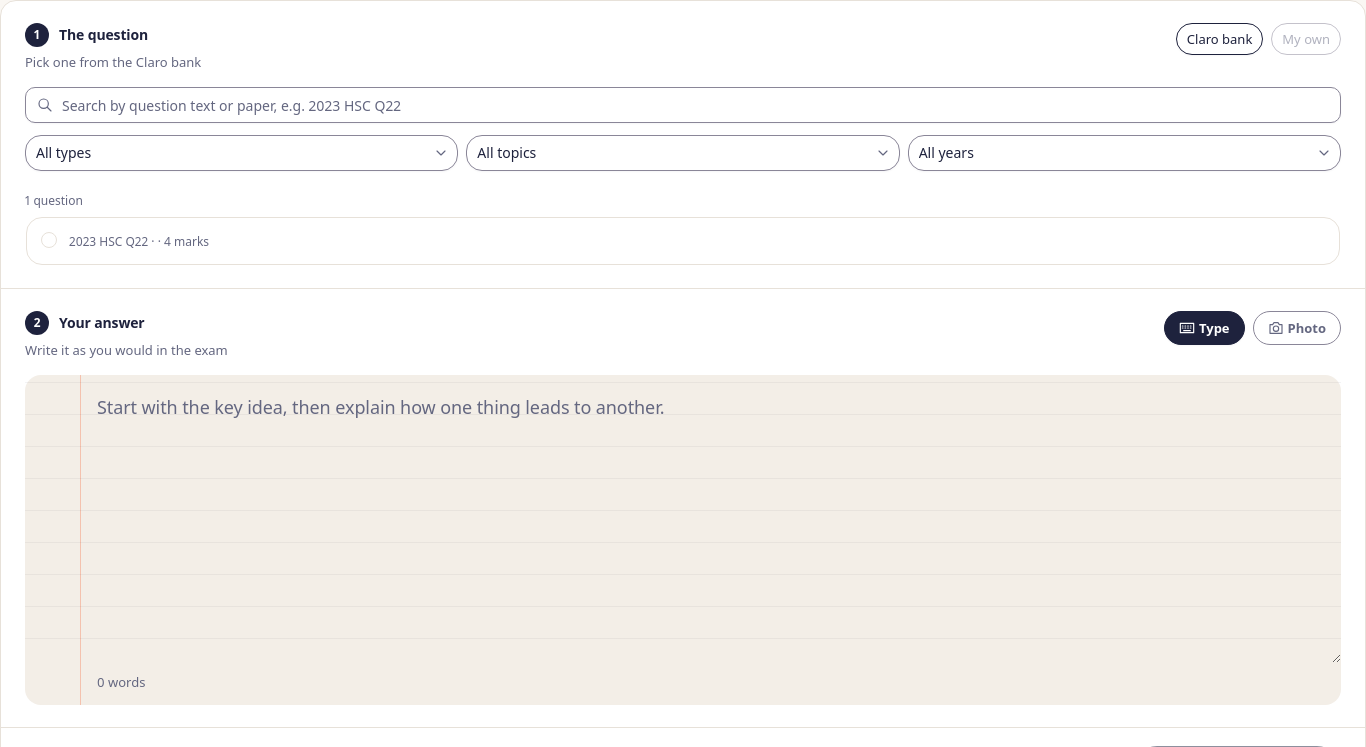
Test: defaults to bank-only with useful filtered-empty copy
Expected: the button with aria-label "My own question" is disabled, [1271,23,1341,55]
Type "synthetic missing question" into the dropdown named "Search questions" at [683, 105], box [25,87,1341,123]
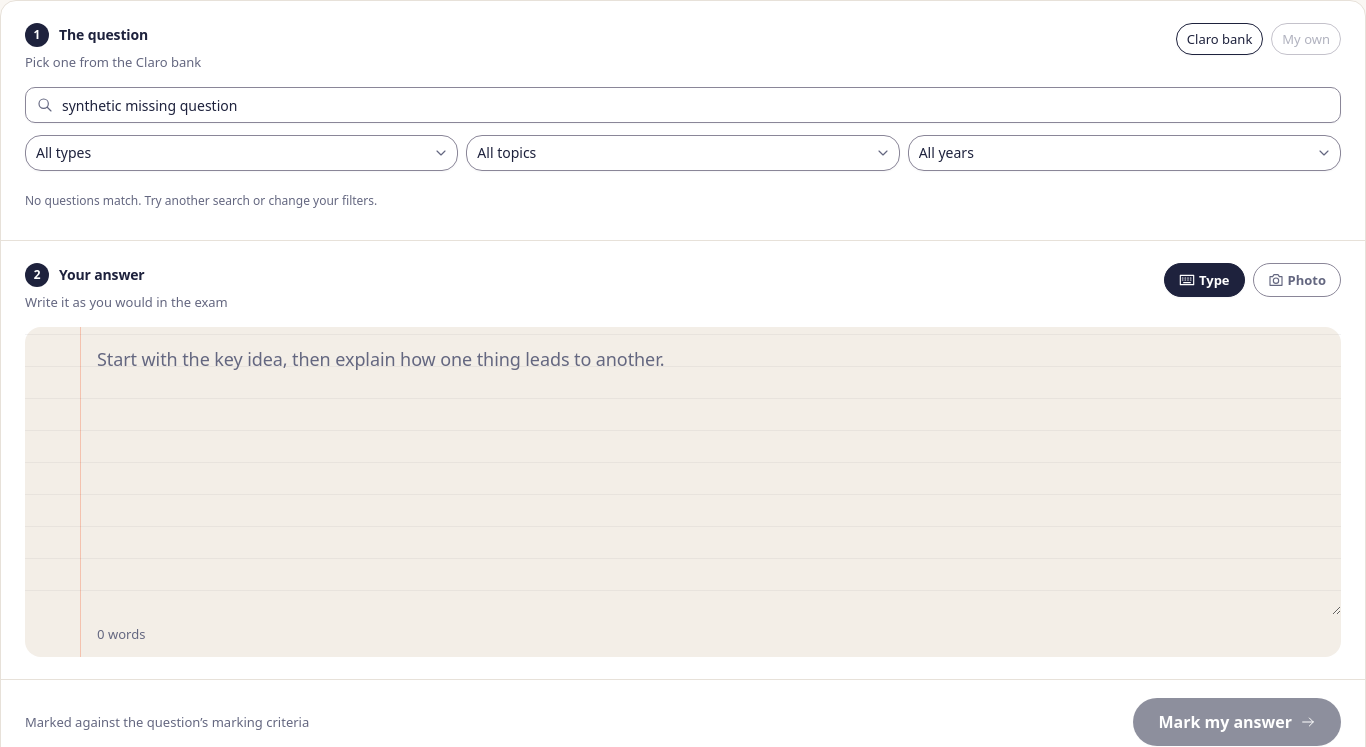
Expected: the text "No questions match. Try another search or change your filters." is shown, [25,192,377,209]
